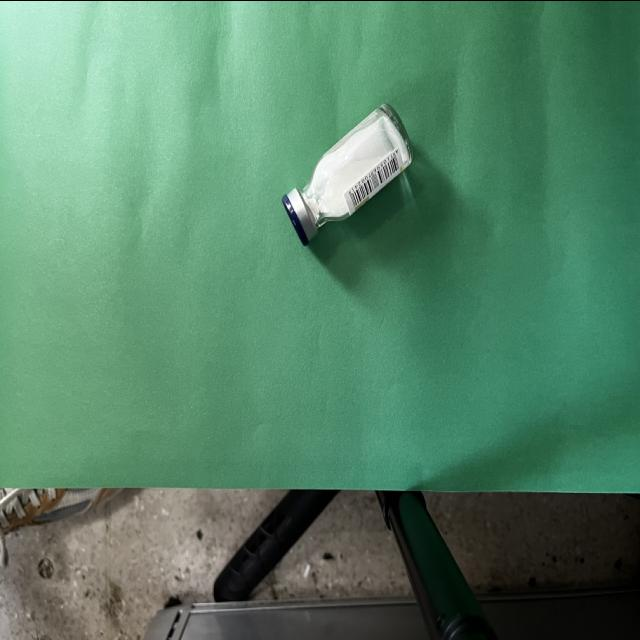Vials: (282, 101, 414, 245)
